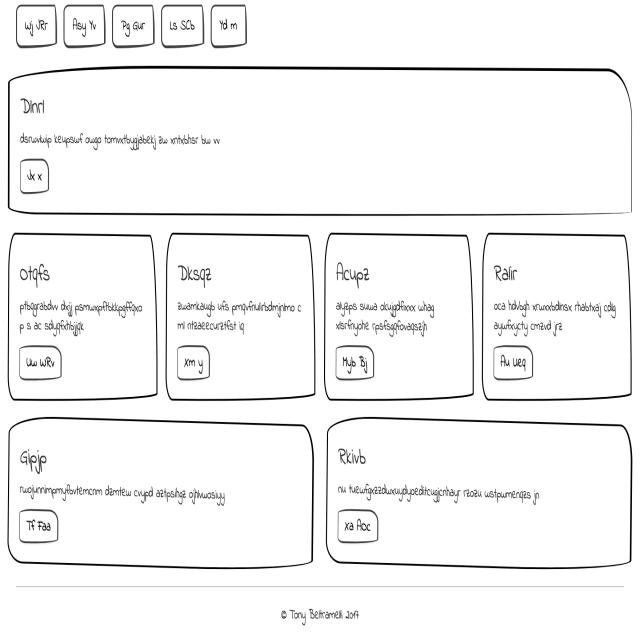Button: (15, 342, 72, 381), (334, 506, 382, 548), (490, 341, 538, 382), (16, 157, 57, 204), (16, 508, 63, 547), (175, 343, 216, 385), (331, 348, 380, 380)
Card: (5, 68, 634, 224), (325, 416, 635, 576), (6, 417, 319, 573), (480, 228, 633, 410), (323, 231, 477, 407), (166, 228, 318, 404), (6, 235, 160, 406)
Footer: (2, 584, 640, 639)
Heading 6: (337, 438, 383, 479), (15, 254, 60, 292), (14, 439, 59, 473), (177, 260, 222, 293), (488, 256, 529, 290), (333, 260, 379, 290), (19, 93, 50, 117)
Navigation Bar: (12, 4, 256, 52)
Paragraph: (14, 119, 224, 153), (333, 474, 543, 507), (15, 474, 229, 504), (11, 291, 146, 337), (328, 292, 438, 347), (172, 294, 308, 338), (486, 294, 620, 338), (229, 502, 229, 510)
